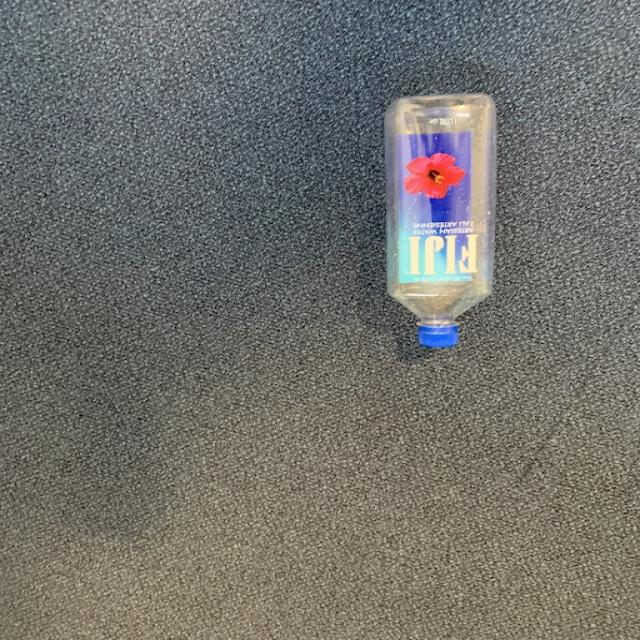PET: (380, 90, 496, 354)
